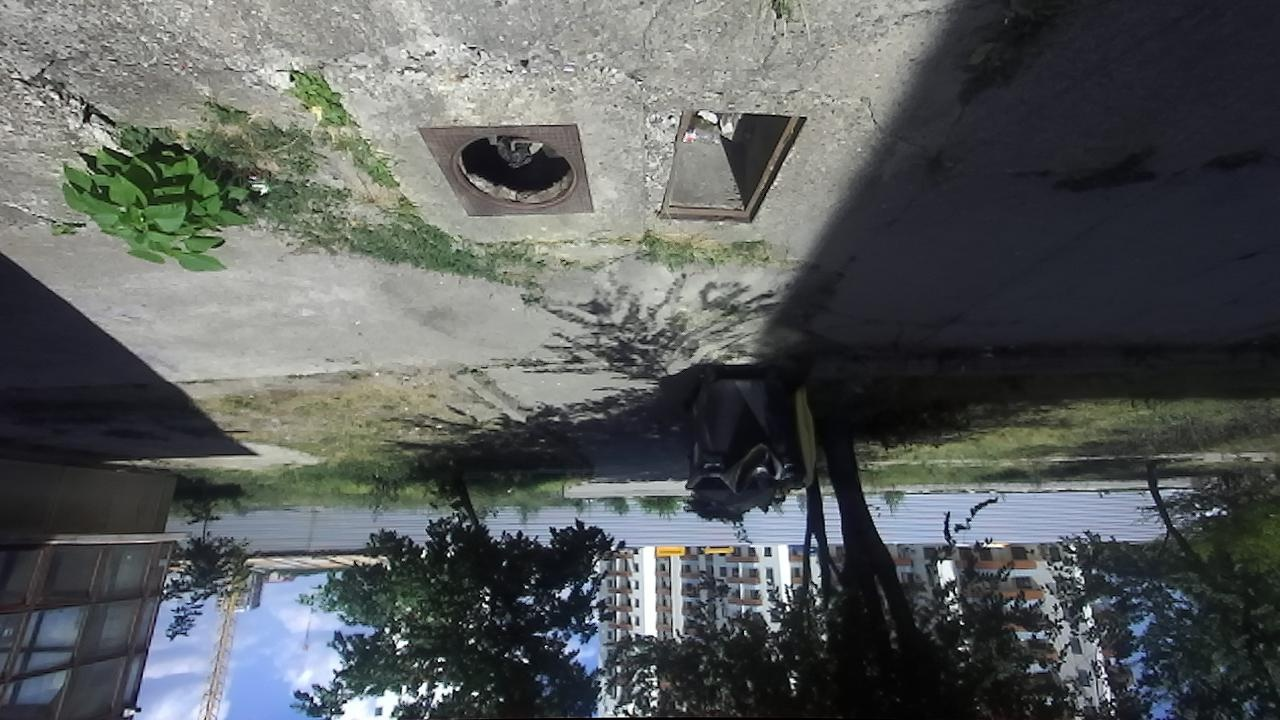drain: (652, 110, 813, 224), (445, 131, 580, 216)
